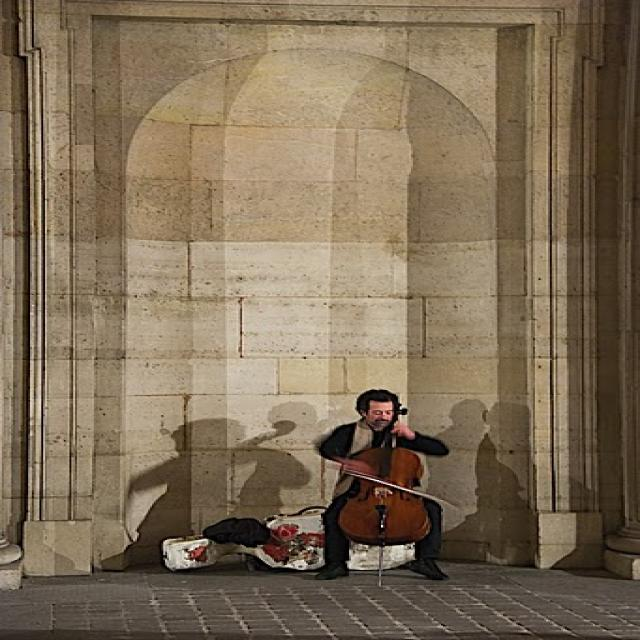cello: (333, 407, 434, 549)
